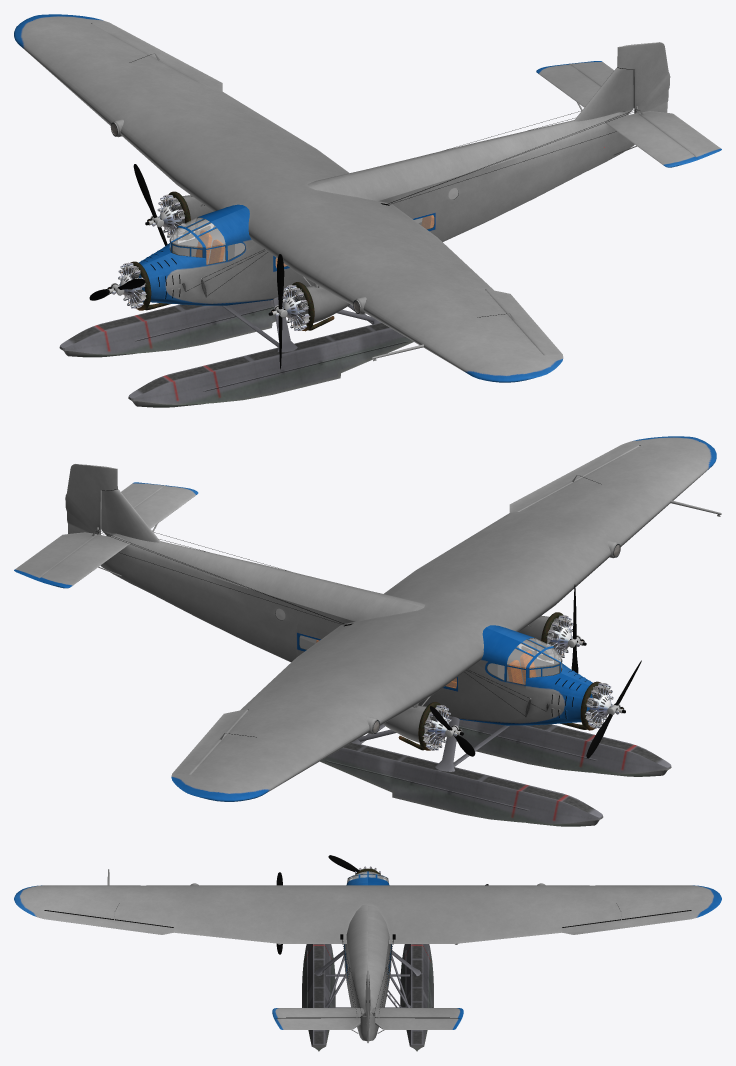
3 renders of one model, top to bottom at view 1: azimuth 30°, elevation 25°; view 2: azimuth 150°, elevation 25°; view 3: azimuth 270°, elevation 25°, orthographic. The views are drawn at different scales.
Visible parts, largest first — view 1: Object_15, Object_14, Object_27, Object_3, Object_16, Object_11, Object_17, Object_2; view 2: Object_15, Object_14, Object_27, Object_3, Object_11, Object_16, Object_17, Object_2; view 3: Object_15, Object_14, Object_16, Object_3.
Boxes of the visible parts, bbox=[...] form: Object_15: bbox=[14, 14, 697, 382]; Object_14: bbox=[59, 23, 721, 407]; Object_27: bbox=[169, 188, 458, 267]; Object_3: bbox=[89, 164, 287, 369]; Object_16: bbox=[129, 54, 639, 347]; Object_11: bbox=[169, 188, 458, 266]; Object_17: bbox=[120, 204, 305, 321]; Object_2: bbox=[195, 215, 434, 267]; Object_15: bbox=[38, 436, 716, 801]; Object_14: bbox=[14, 444, 721, 826]; Object_27: bbox=[275, 608, 562, 688]; Object_3: bbox=[430, 584, 641, 758]; Object_11: bbox=[275, 608, 562, 688]; Object_16: bbox=[96, 530, 545, 766]; Object_17: bbox=[427, 625, 611, 741]; Object_2: bbox=[316, 640, 536, 688]; Object_15: bbox=[14, 868, 721, 1042]; Object_14: bbox=[44, 869, 691, 1051]; Object_16: bbox=[326, 903, 619, 1013]; Object_3: bbox=[276, 855, 488, 954].
Size of the model in its own units: 15.85 by 5.96 by 23.66.
Materials: 15 (14 with a texture image).
